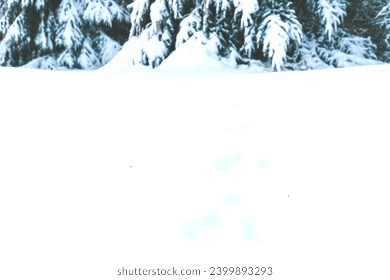rabbit: (171, 147, 308, 251)
